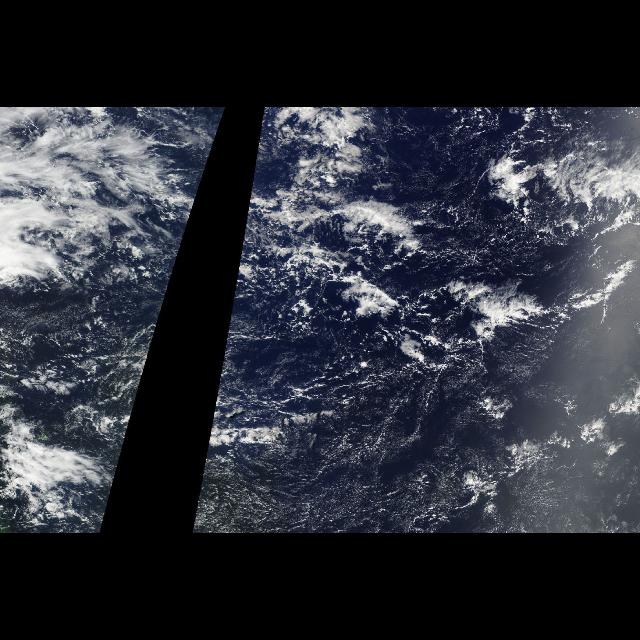Fish: (315, 200, 539, 344)
Sugar: (202, 404, 484, 530)
